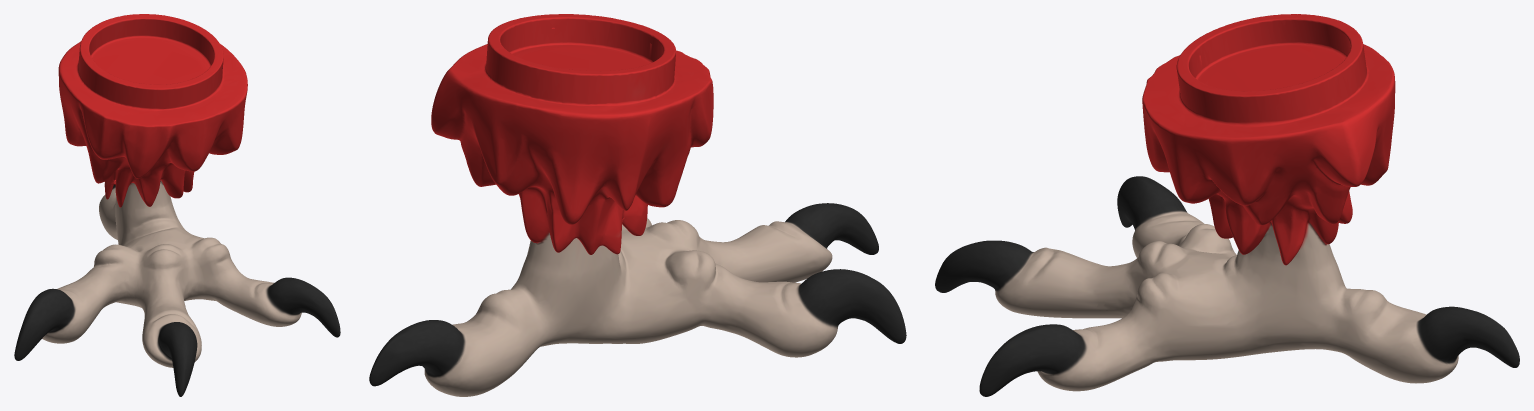
Rendered from Patte_Perroquet_rg.glb.
The picture shows the model from 3 angles, left to right: view 1: azimuth 30°, elevation 25°; view 2: azimuth 150°, elevation 25°; view 3: azimuth 270°, elevation 25°; orthographic projection. The views are drawn at different scales.
Visible parts, largest first — view 1: Patte_Perroquet_rg; view 2: Patte_Perroquet_rg; view 3: Patte_Perroquet_rg.
Boxes of the visible parts, x1,y1,x2,y2 form: Patte_Perroquet_rg: [14, 14, 340, 396]; Patte_Perroquet_rg: [369, 14, 906, 396]; Patte_Perroquet_rg: [935, 14, 1519, 396].
Size of the model in its own units: 2.73 by 2.3 by 3.86.
